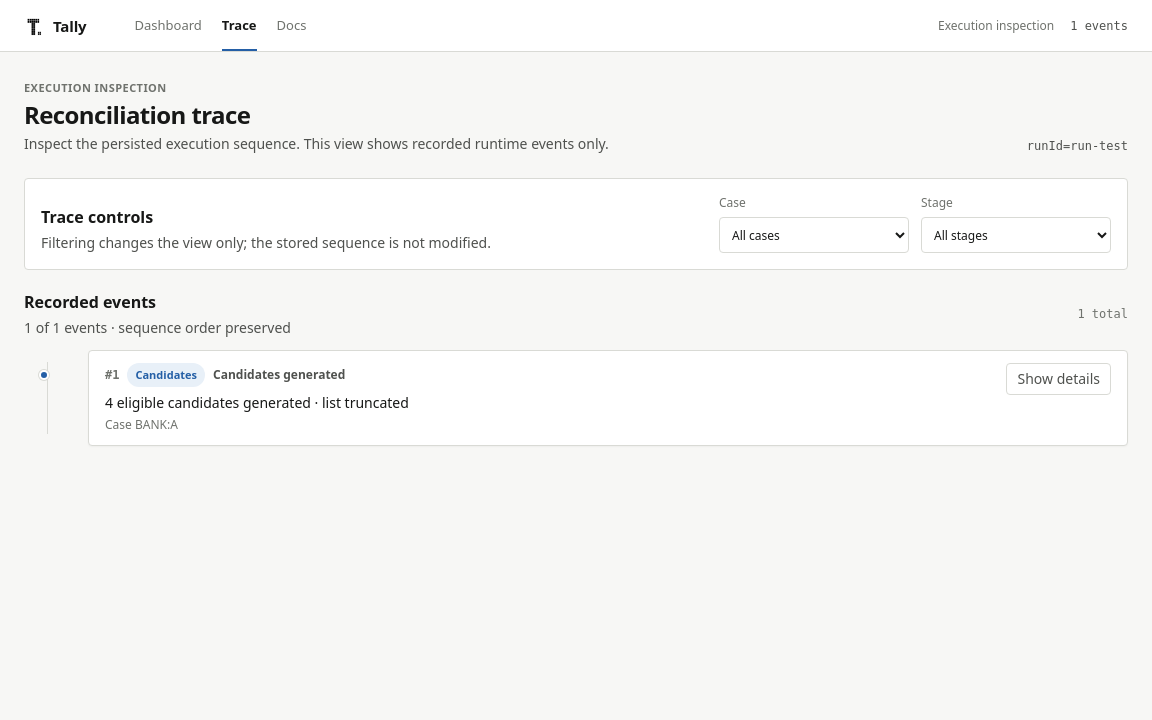
Test: T032 reconciliation trace › discloses a truncated candidate list without inferring hidden candidates
This screenshot has width=1152, height=720.
expect the text "4 eligible candidates generated · list truncated" is shown: met, box [105,393,409,413]
Click the button "Show details": click(1059, 379) [1006,363,1111,395]
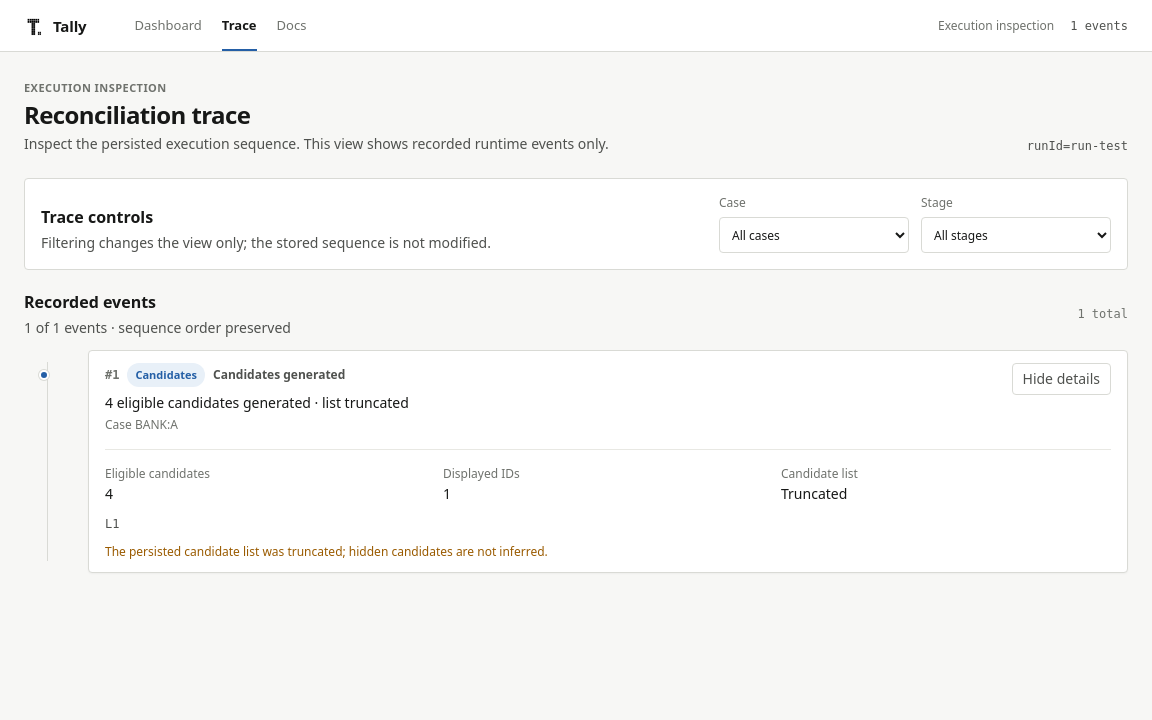
expect the text "Truncated" is shown: met, box [781,484,847,503]
expect the text "The persisted candidate list was truncated; hidden candidates are not inferred." is shown: met, box [105,543,548,560]
